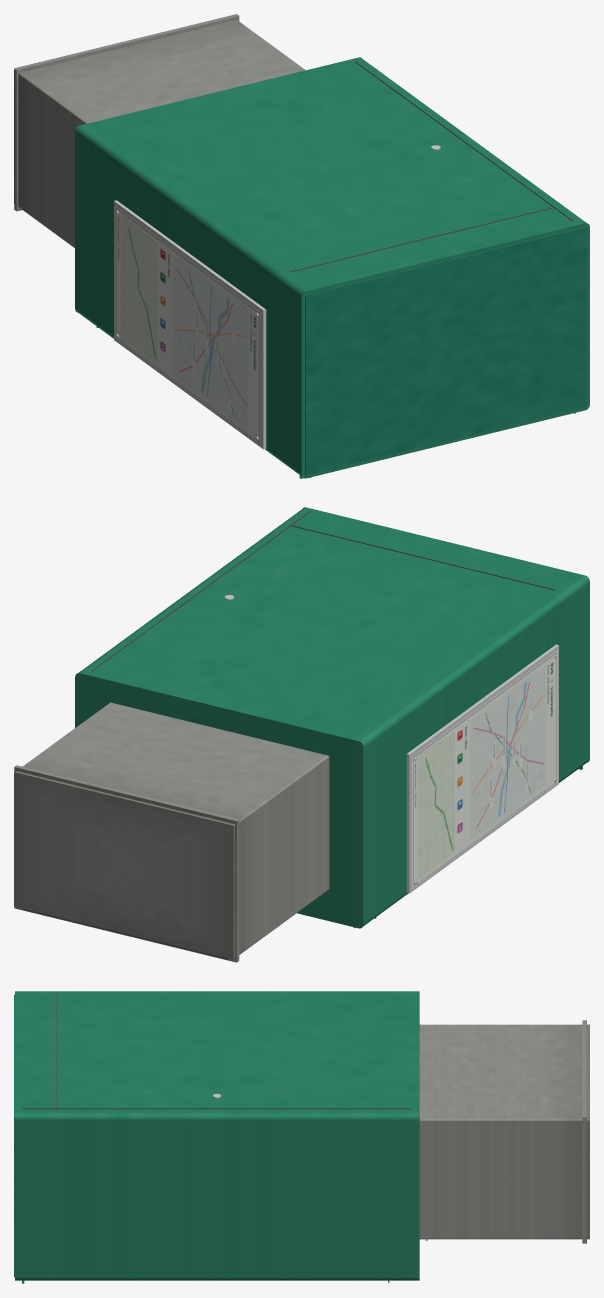
File: BVB_legacy_ticket_machine_compact_PBR.glb
3 renders of one model, top to bottom at view 1: azimuth 30°, elevation 25°; view 2: azimuth 150°, elevation 25°; view 3: azimuth 270°, elevation 25°, orthographic. The views are drawn at different scales.
Parts seen in each view (by area): view 1: C01_outer_green_powdercoated_cabinet, C02_top_green_weathered_sheet, B01_stainless_foundation_plinth, M02_illustrative_Basel_network_sheet, M01_left_side_map_mount_plate, B05_plinth_foot_base; view 2: C01_outer_green_powdercoated_cabinet, B01_stainless_foundation_plinth, M02_illustrative_Basel_network_sheet, M01_left_side_map_mount_plate, B05_plinth_foot_base; view 3: C01_outer_green_powdercoated_cabinet, B01_stainless_foundation_plinth, B05_plinth_foot_base, C05_rear_service_seam.
Boxes of the visible parts, bbox=[...] form: C01_outer_green_powdercoated_cabinet: bbox=[75, 57, 589, 478]; C02_top_green_weathered_sheet: bbox=[305, 227, 586, 474]; B01_stainless_foundation_plinth: bbox=[14, 20, 305, 247]; M02_illustrative_Basel_network_sheet: bbox=[115, 206, 260, 444]; M01_left_side_map_mount_plate: bbox=[114, 200, 266, 449]; B05_plinth_foot_base: bbox=[14, 14, 239, 211]; C01_outer_green_powdercoated_cabinet: bbox=[75, 507, 589, 928]; B01_stainless_foundation_plinth: bbox=[14, 702, 329, 959]; M02_illustrative_Basel_network_sheet: bbox=[412, 650, 557, 888]; M01_left_side_map_mount_plate: bbox=[406, 644, 558, 893]; B05_plinth_foot_base: bbox=[14, 765, 239, 962]; C01_outer_green_powdercoated_cabinet: bbox=[15, 991, 419, 1280]; B01_stainless_foundation_plinth: bbox=[419, 1024, 589, 1239]; B05_plinth_foot_base: bbox=[582, 1020, 586, 1243]; C05_rear_service_seam: bbox=[22, 1108, 411, 1109].
Size of the model in its own units: 0.8055 by 0.5275 by 1.53.
14 materials, 7 textured.
